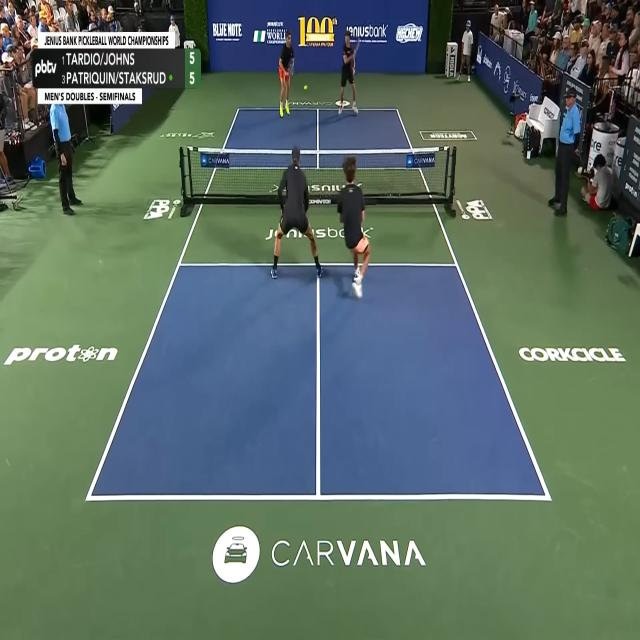ball: (304, 85, 308, 90)
